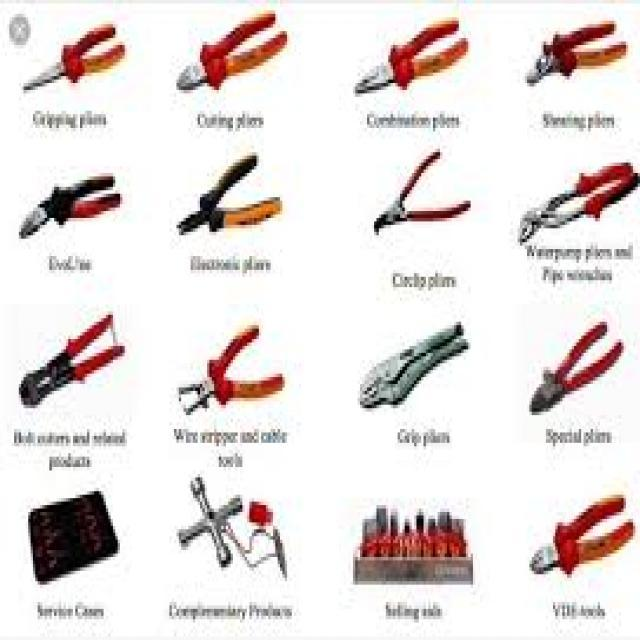pliers: (13, 304, 138, 420), (356, 312, 474, 428), (344, 9, 474, 110), (171, 312, 290, 420), (518, 314, 631, 426), (166, 7, 291, 108), (513, 150, 640, 248), (524, 486, 638, 591), (172, 142, 286, 245), (368, 146, 480, 244), (516, 9, 630, 96), (17, 16, 132, 102), (15, 160, 124, 250)
